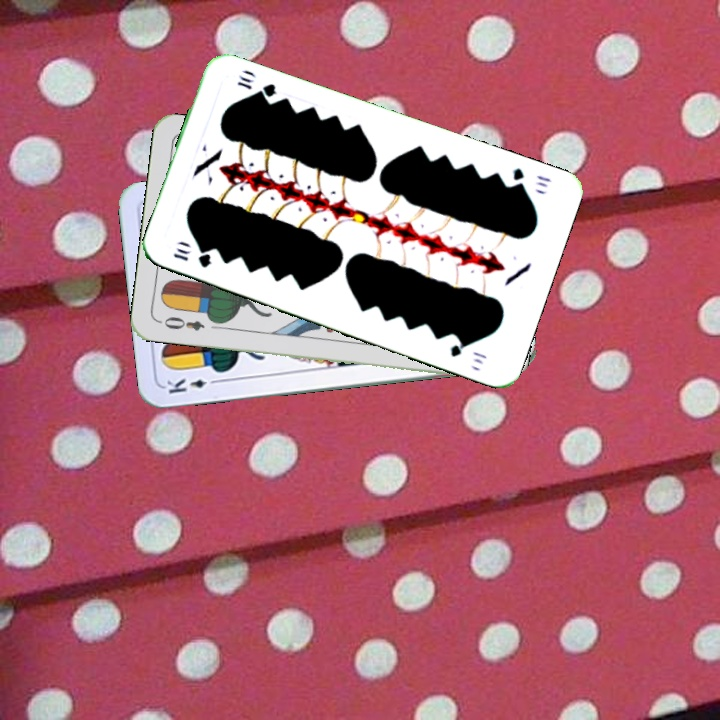EK: (162, 375, 222, 397)
EO: (155, 312, 207, 334)
G10: (508, 163, 555, 193), (169, 244, 214, 270)
